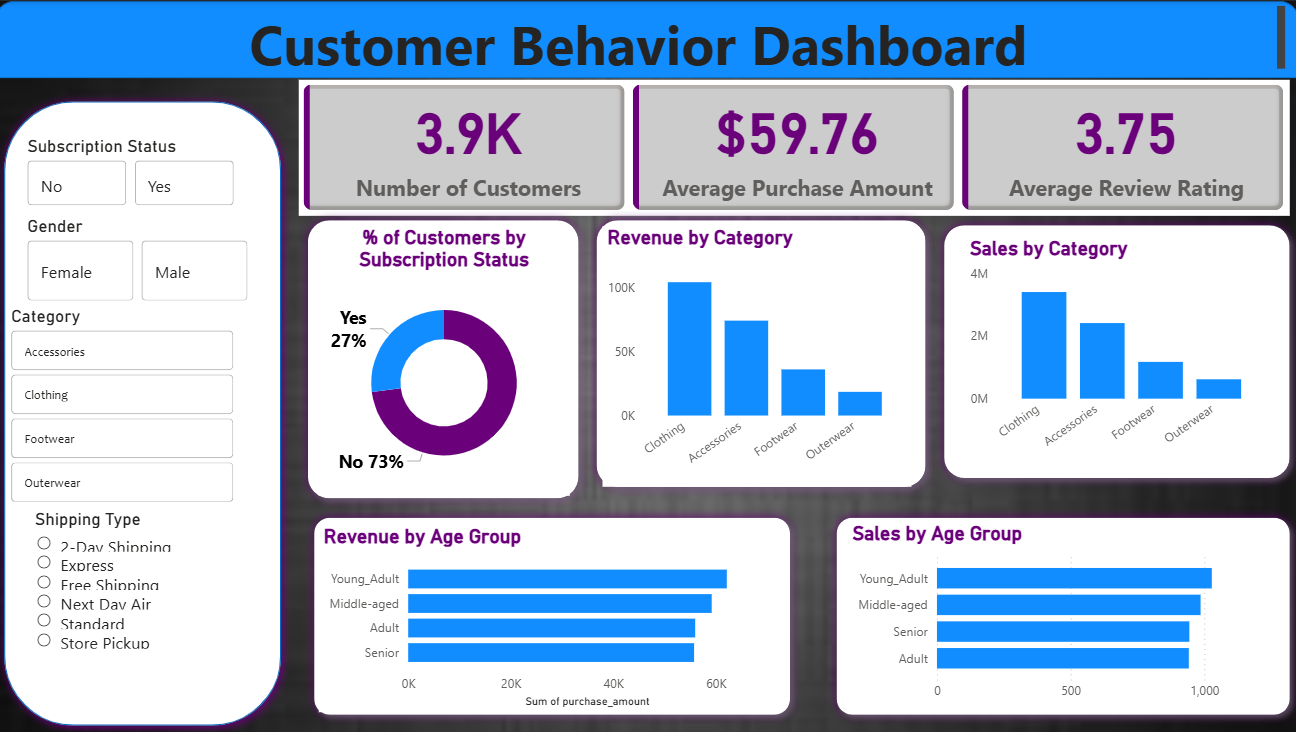

This screenshot's page, from the dashboard's own definition file:
{"tool":"powerbi","page":{"name":"Page 1","canvas":[1280,720],"ordinal":0},"visuals":[{"type":"cardVisual","fields":{"Data":["customer_behaviour customer.Number of Customers","customer_behaviour customer.Average Purchase Amount","customer_behaviour customer.Average Review Rating"]},"box":[298.6,72.1,981.5,134.3],"z":0},{"type":"shape","box":[0,0,1280,75.9],"z":1000},{"type":"textbox","box":[220.2,0,812.3,75.9],"z":2000},{"type":"shape","box":[298.6,206.5,283.6,291.1],"z":3000},{"type":"donutChart","title":"% of Customers by Subscription Status","fields":{"Category":["customer_behaviour customer.subscription_status"],"Y":["CountNonNull(customer_behaviour customer.customer_id)"]},"box":[317.2,221.4,246.3,265],"z":4000},{"type":"shape","box":[582.2,206.5,340.8,279.9],"z":5000},{"type":"shape","box":[923,211.5,357,266.2],"z":6000},{"type":"clusteredColumnChart","title":"Revenue by Category","fields":{"Y":["Sum(customer_behaviour customer.purchase_amount)"],"Category":["customer_behaviour customer.category"]},"box":[595.9,221.4,303.5,256.3],"z":7000},{"type":"clusteredColumnChart","title":"Sales by Category","fields":{"Y":["Sum(customer_behaviour customer.customer_id)"],"Category":["customer_behaviour customer.category"]},"box":[951.6,231.4,301,227.6],"z":8000},{"type":"shape","box":[0,89.6,289.8,630.7],"z":9000},{"type":"advancedSlicerVisual","fields":{"Values":["customer_behaviour customer.subscription_status"]},"box":[27.4,133.1,212.7,73.4],"z":10000},{"type":"advancedSlicerVisual","title":"Gender","fields":{"Values":["customer_behaviour customer.gender"]},"box":[27.4,211.5,227.6,88.3],"z":11000},{"type":"advancedSlicerVisual","fields":{"Values":["customer_behaviour customer.category"]},"box":[11.2,299.8,228.9,197.8],"z":12000},{"type":"listSlicer","fields":{"Values":["customer_behaviour customer.shipping_type"]},"box":[34.8,497.6,199,189.1],"z":13000},{"type":"shape","box":[304.8,497.6,485.1,211.5],"z":13001},{"type":"clusteredBarChart","title":"Revenue by Age Group","fields":{"Category":["customer_behaviour customer.age_group"],"Y":["Sum(customer_behaviour customer.purchase_amount)"]},"box":[317.2,513.8,455.3,184.1],"z":13002},{"type":"shape","box":[817.3,497.6,462.8,211.5],"z":13003},{"type":"clusteredBarChart","title":"Sales by Age Group","fields":{"Category":["customer_behaviour customer.age_group"],"Y":["CountNonNull(customer_behaviour customer.customer_id)"]},"box":[837.2,511.3,422.9,184.1],"z":13004}]}

Visuals, with their boxes in screenshot pixels (x1, y1, x2, y2), scaled from the page's 1280x720 canvas onto the 1296x732 screenshot:
cardVisual - customer_behaviour customer.Number of Customers x customer_behaviour customer.Average Purchase Amount: 302, 73, 1295, 210
shape: 0, 0, 1295, 77
textbox: 223, 0, 1045, 77
shape: 302, 210, 589, 506
"% of Customers by Subscription Status" donutChart: 321, 225, 571, 495
shape: 589, 210, 935, 495
shape: 935, 215, 1295, 486
"Revenue by Category" clusteredColumnChart: 603, 225, 911, 486
"Sales by Category" clusteredColumnChart: 963, 235, 1268, 467
shape: 0, 91, 293, 731
advancedSlicerVisual - customer_behaviour customer.subscription_status: 28, 135, 243, 210
"Gender" advancedSlicerVisual: 28, 215, 258, 305
advancedSlicerVisual - customer_behaviour customer.category: 11, 305, 243, 506
listSlicer - customer_behaviour customer.shipping_type: 35, 506, 237, 698
shape: 309, 506, 800, 721
"Revenue by Age Group" clusteredBarChart: 321, 522, 782, 710
shape: 828, 506, 1295, 721
"Sales by Age Group" clusteredBarChart: 848, 520, 1276, 707
